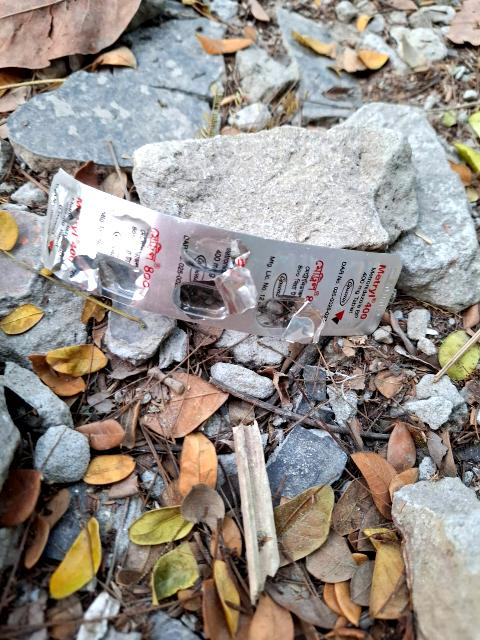medicine: (8, 163, 411, 370)
